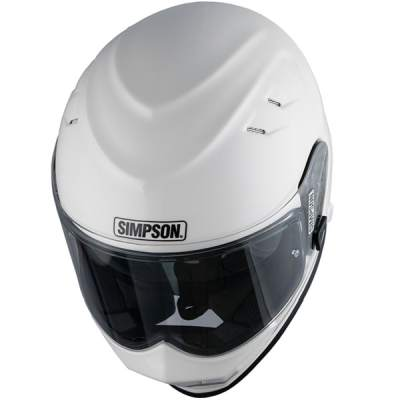with_helmet: (46, 2, 339, 400)
